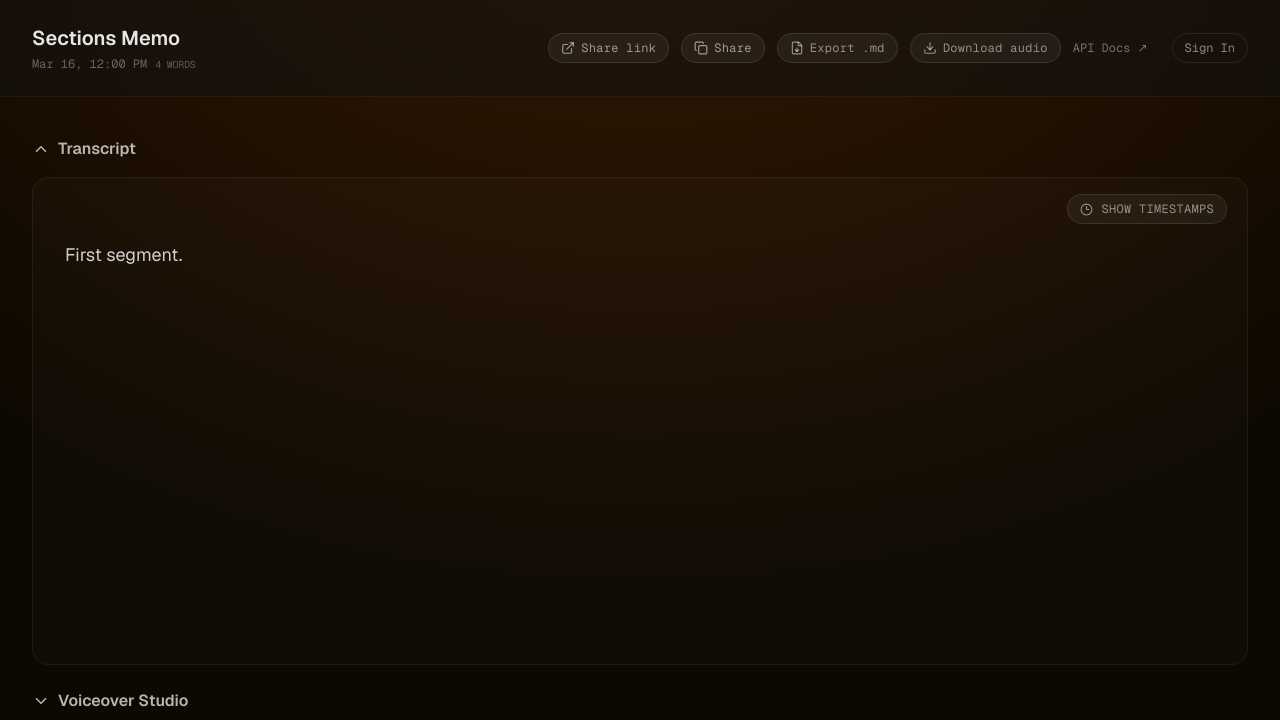
it: MemoDetailView › keeps the timestamp control inside the expanded transcript section
Expected: the button "Show timestamps" is shown, [1068,194,1227,224]
Click the button "Transcript".
click(97, 148)  # box [32,137,1248,161]
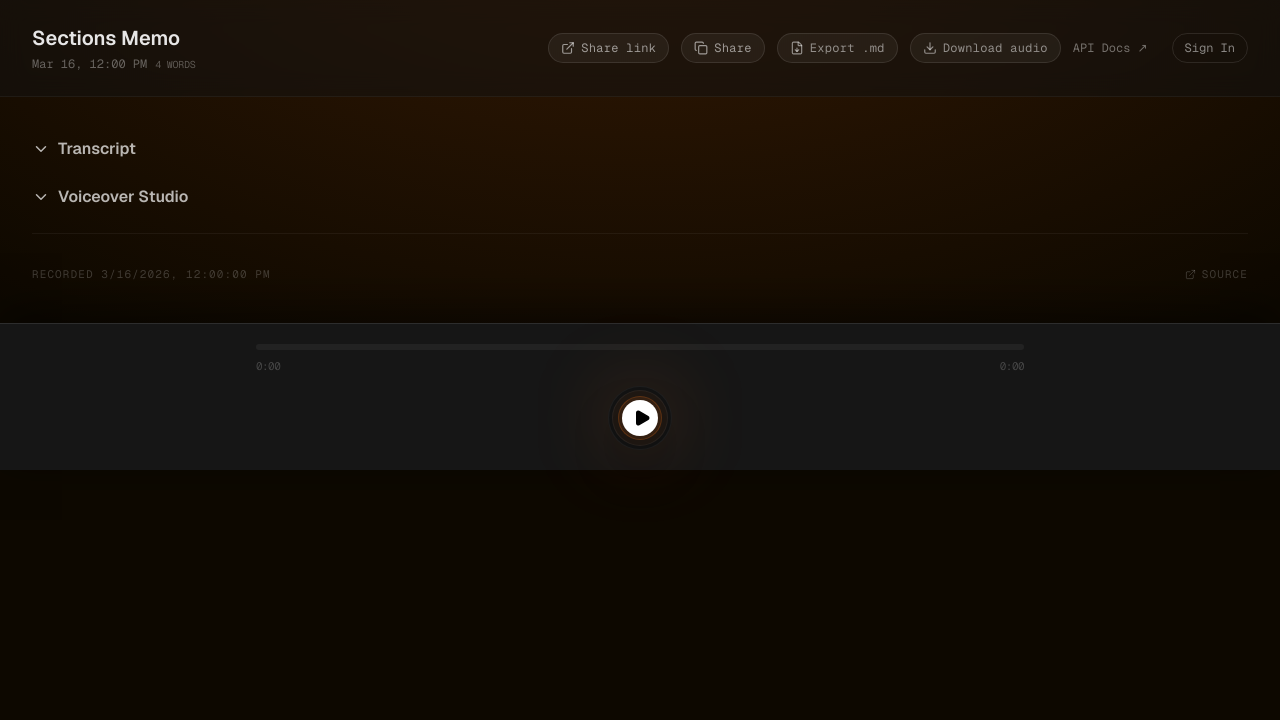
Expected: the button "Show timestamps" is gone
